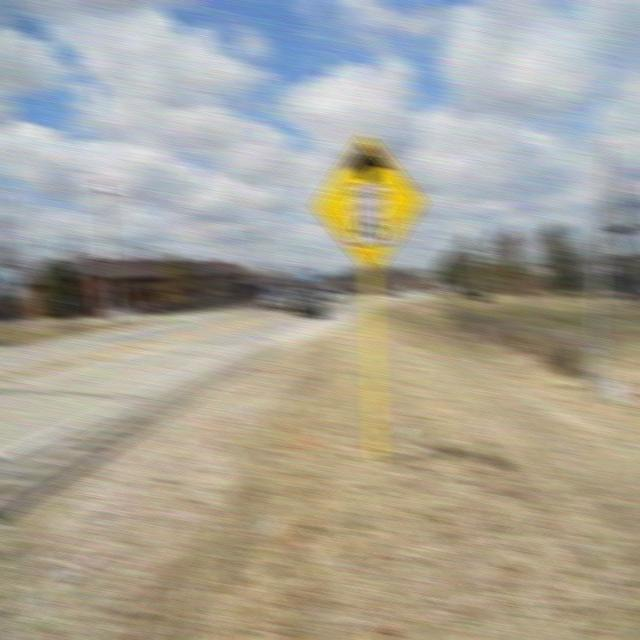speedLimit45: (348, 178, 390, 253)
